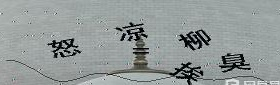chinese: (179, 29, 217, 51), (117, 21, 149, 46), (170, 60, 203, 84), (48, 35, 79, 57), (220, 55, 256, 73)
